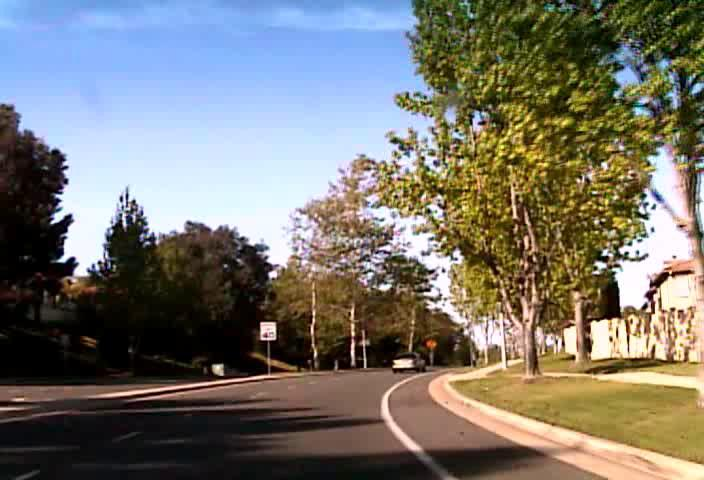speedLimit40: (259, 321, 276, 340)
